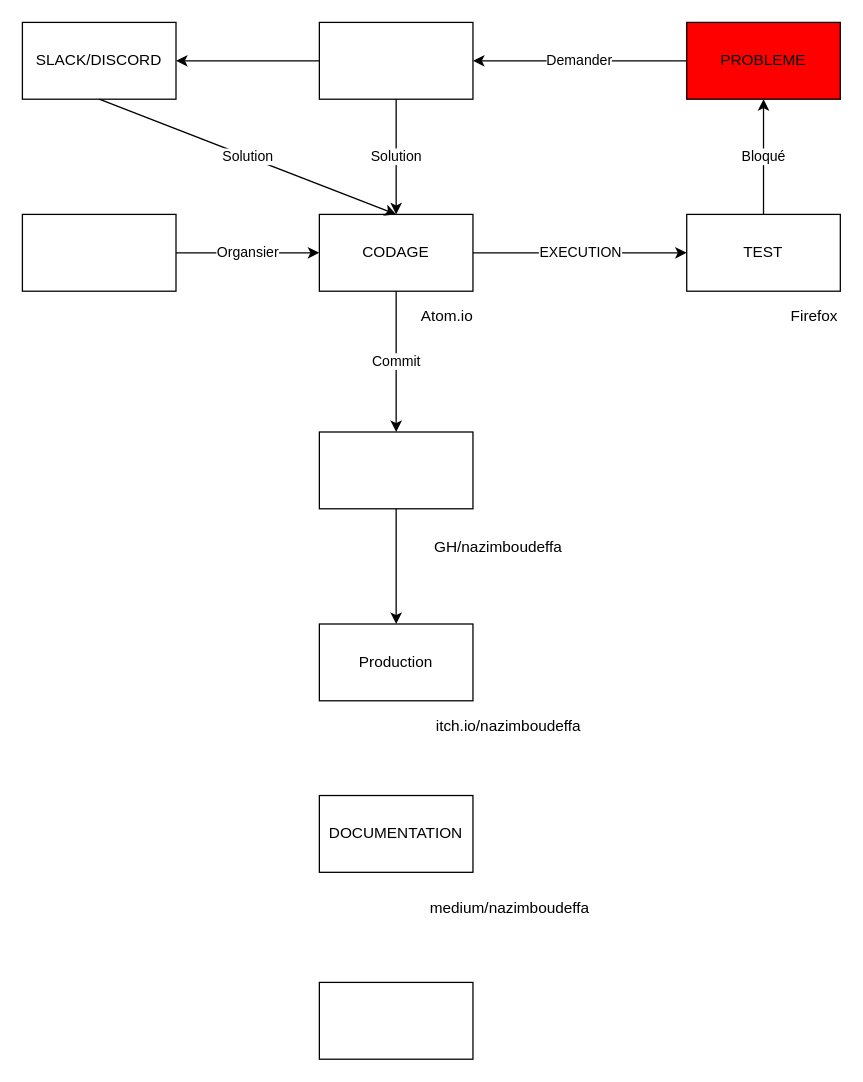
This 863x1082 diagram has some shape labels left out. Here are the shapes that lost their labels. From the top down, the box of each, then its label:
(318, 21, 473, 99): FORUM
(21, 213, 176, 291): ASSETS
(318, 431, 473, 509): GitHub
